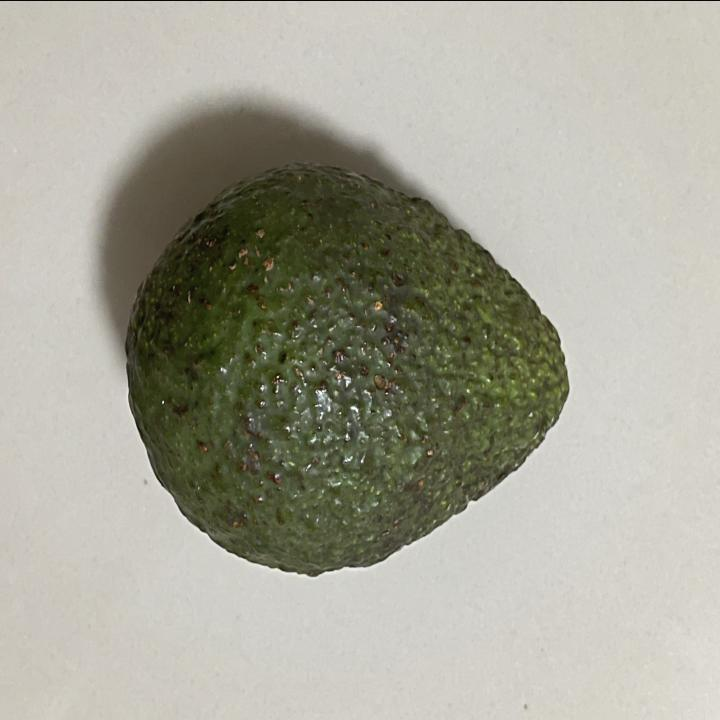Level1: (112, 146, 586, 594)
